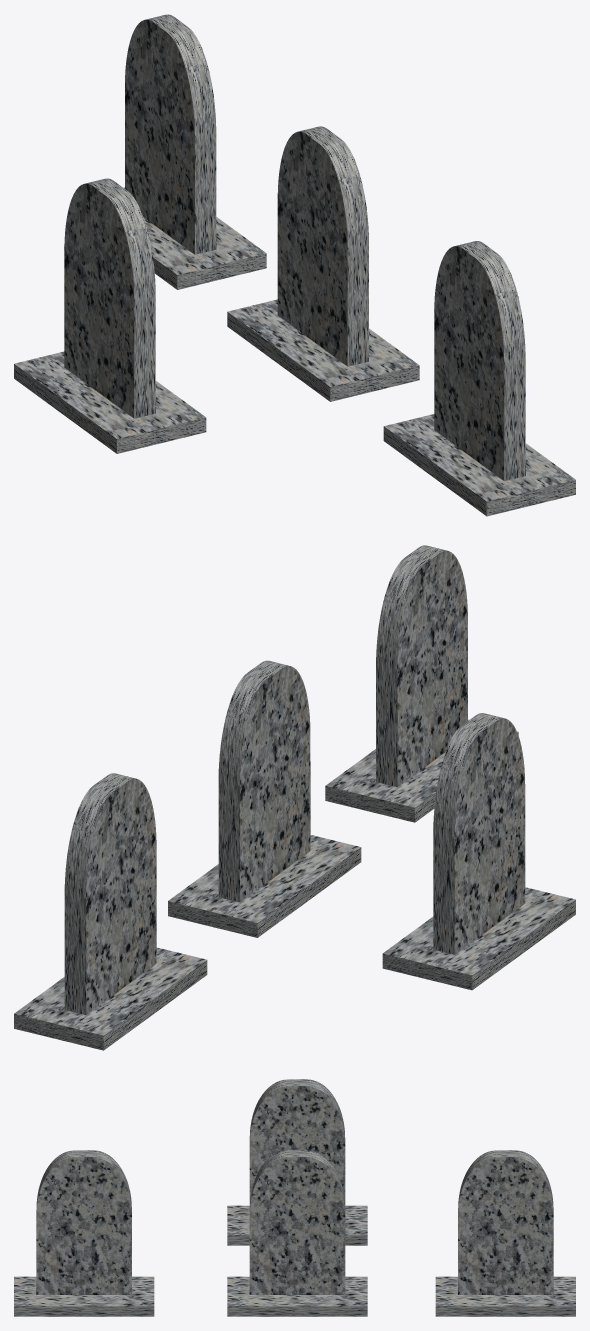
File: grave.glb
The picture shows the model from 3 angles, top to bottom: view 1: azimuth 30°, elevation 25°; view 2: azimuth 150°, elevation 25°; view 3: azimuth 270°, elevation 25°; orthographic projection. The views are drawn at different scales.
Parts seen in each view (by area): view 1: Cube.011, Cube.008, Cube, Cube.007, Cube.009, Cube.010, Cube.001, Cube.006; view 2: Cube, Cube.007, Cube.011, Cube.008, Cube.010, Cube.001, Cube.006, Cube.009; view 3: Cube, Cube.007, Cube.008, Cube.011, Cube.001, Cube.006, Cube.009, Cube.010.
Boxes of the visible parts, x1,y1,x2,y2 form: Cube.011: (64,178,155,418); Cube.008: (434,241,525,481); Cube: (277,126,368,366); Cube.007: (125,14,216,254); Cube.009: (383,414,575,516); Cube.010: (14,351,206,453); Cube.001: (227,299,419,401); Cube.006: (123,187,266,289); Cube: (218,660,310,902); Cube.007: (64,773,156,1014); Cube.011: (433,713,525,954); Cube.008: (376,545,467,787); Cube.010: (382,887,575,990); Cube.001: (168,835,361,937); Cube.006: (14,947,207,1050); Cube.009: (325,719,518,822); Cube: (249,1150,345,1294); Cube.007: (458,1150,553,1294); Cube.008: (36,1150,131,1294); Cube.011: (249,1079,345,1208); Cube.001: (227,1276,367,1316); Cube.006: (435,1276,575,1316); Cube.009: (14,1276,154,1316); Cube.010: (227,1205,367,1245).
Bounding box in the file's own units: 0.4155 × 0.2848 × 0.9809.
Materials: 4 (4 with a texture image).
